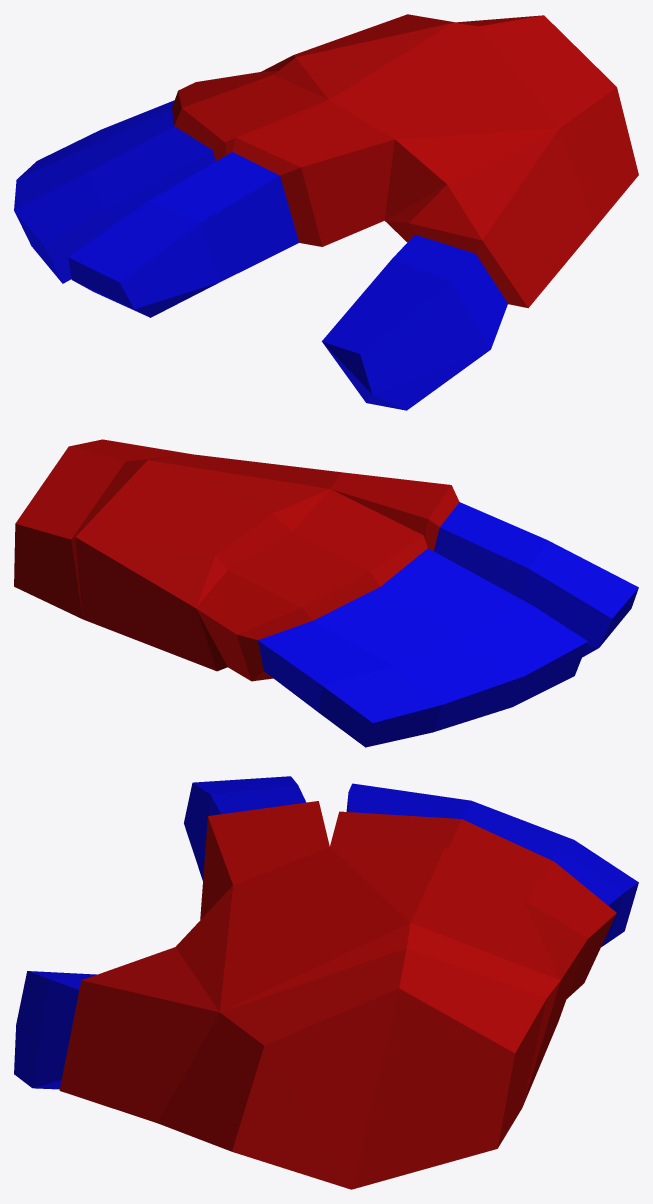
Rendered from Chr_HandRight_Male_Static_04.fbx.
3 renders of one model, top to bottom at view 1: azimuth 30°, elevation 25°; view 2: azimuth 150°, elevation 25°; view 3: azimuth 270°, elevation 25°, orthographic. The views are drawn at different scales.
Parts seen in each view (by area): view 1: Chr_HandRight_Male_04; view 2: Chr_HandRight_Male_04; view 3: Chr_HandRight_Male_04.
Boxes of the visible parts, x1,y1,x2,y2 form: Chr_HandRight_Male_04: (14, 14, 638, 410); Chr_HandRight_Male_04: (14, 439, 638, 747); Chr_HandRight_Male_04: (14, 776, 638, 1189).
Size of the model in its own units: 23.7 by 9.85 by 18.8.
